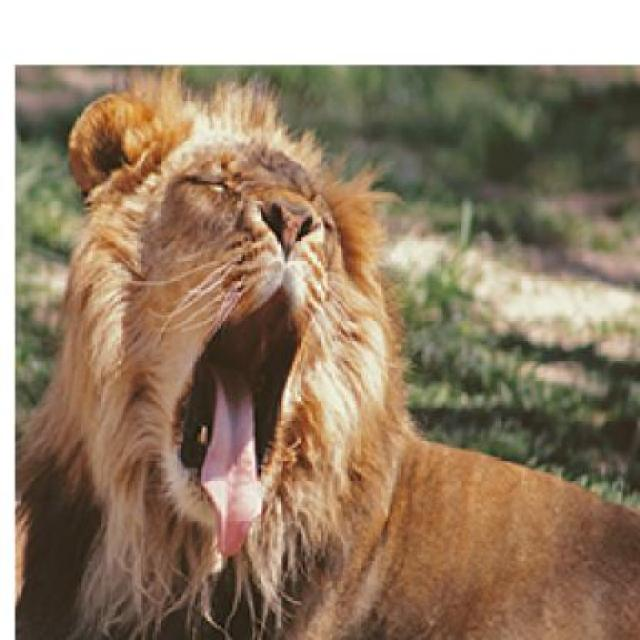Lion: (0, 71, 420, 638)
